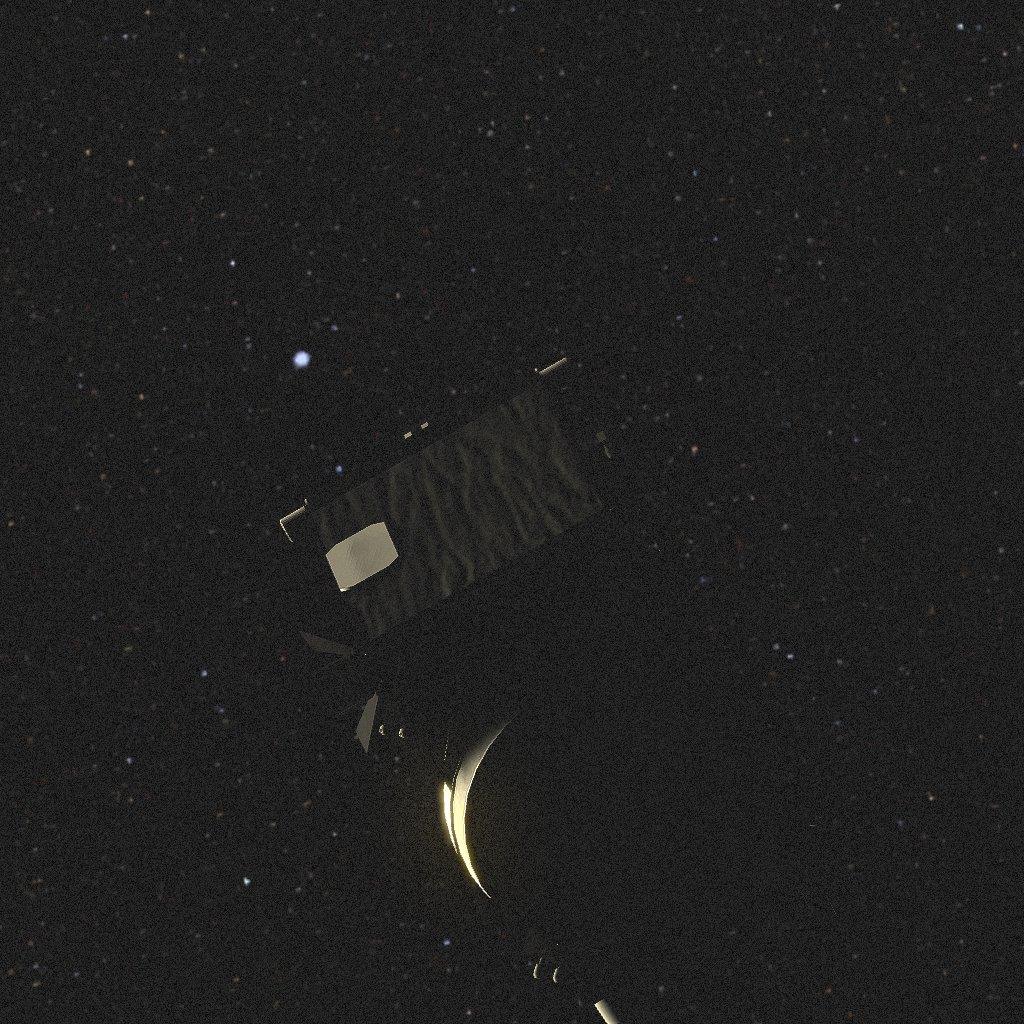proba_3_csc: (280, 358, 918, 1024)
